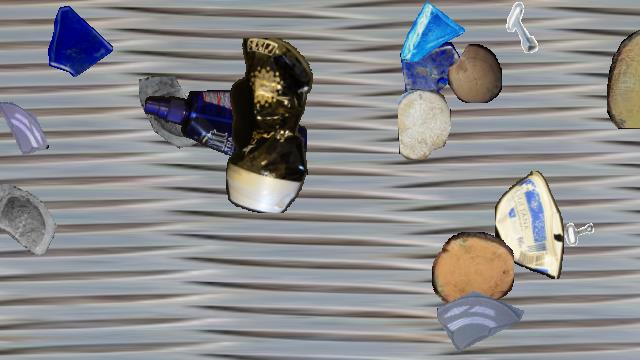glass: (437, 273, 523, 359), (137, 76, 223, 162), (0, 182, 69, 266), (39, 1, 115, 77), (398, 42, 464, 108), (399, 1, 465, 67), (0, 101, 51, 159)
metal: (545, 193, 603, 251), (498, 1, 550, 53)
plastic: (226, 38, 314, 212), (145, 90, 307, 172), (495, 171, 563, 279)
wood: (432, 232, 514, 310), (398, 89, 450, 159), (607, 22, 640, 128), (448, 44, 502, 102)
